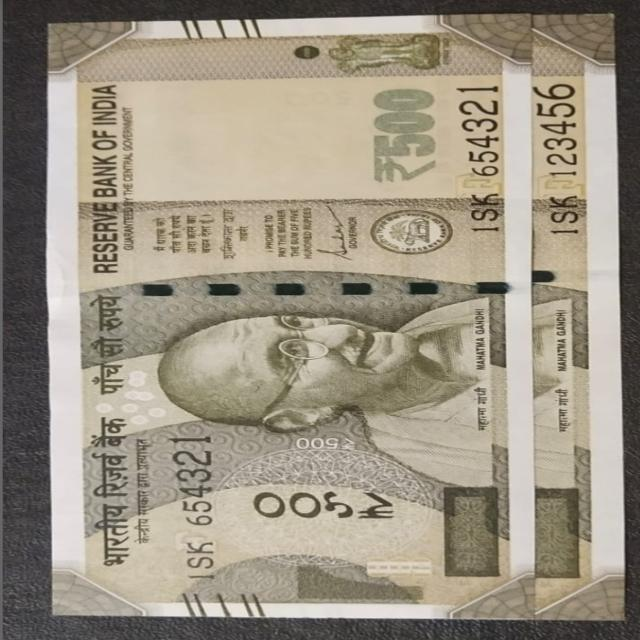500IndianRupees: (47, 19, 536, 618)
